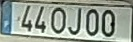0: (100, 8, 115, 38), (84, 7, 99, 37)
4: (18, 4, 33, 32), (33, 5, 46, 34)
J: (66, 7, 81, 36)
O: (49, 5, 66, 34)
